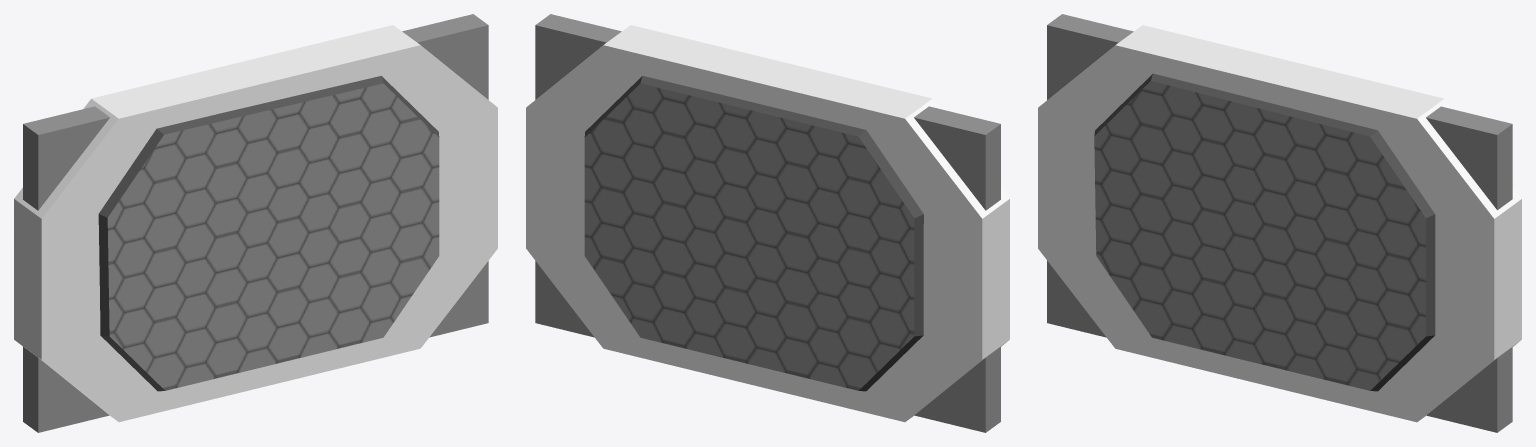
File: Door.fbx
The picture shows the model from 3 angles, left to right: view 1: azimuth 30°, elevation 25°; view 2: azimuth 150°, elevation 25°; view 3: azimuth 330°, elevation 25°; orthographic projection.
Parts seen in each view (by area): view 1: Cube; view 2: Cube; view 3: Cube.
Part boxes in pixels (x1,y1,x2,y2): Cube: [14, 14, 497, 432]; Cube: [526, 14, 1009, 432]; Cube: [1038, 14, 1521, 432].
Size of the model in its own units: 8379 by 5326 by 1188.
